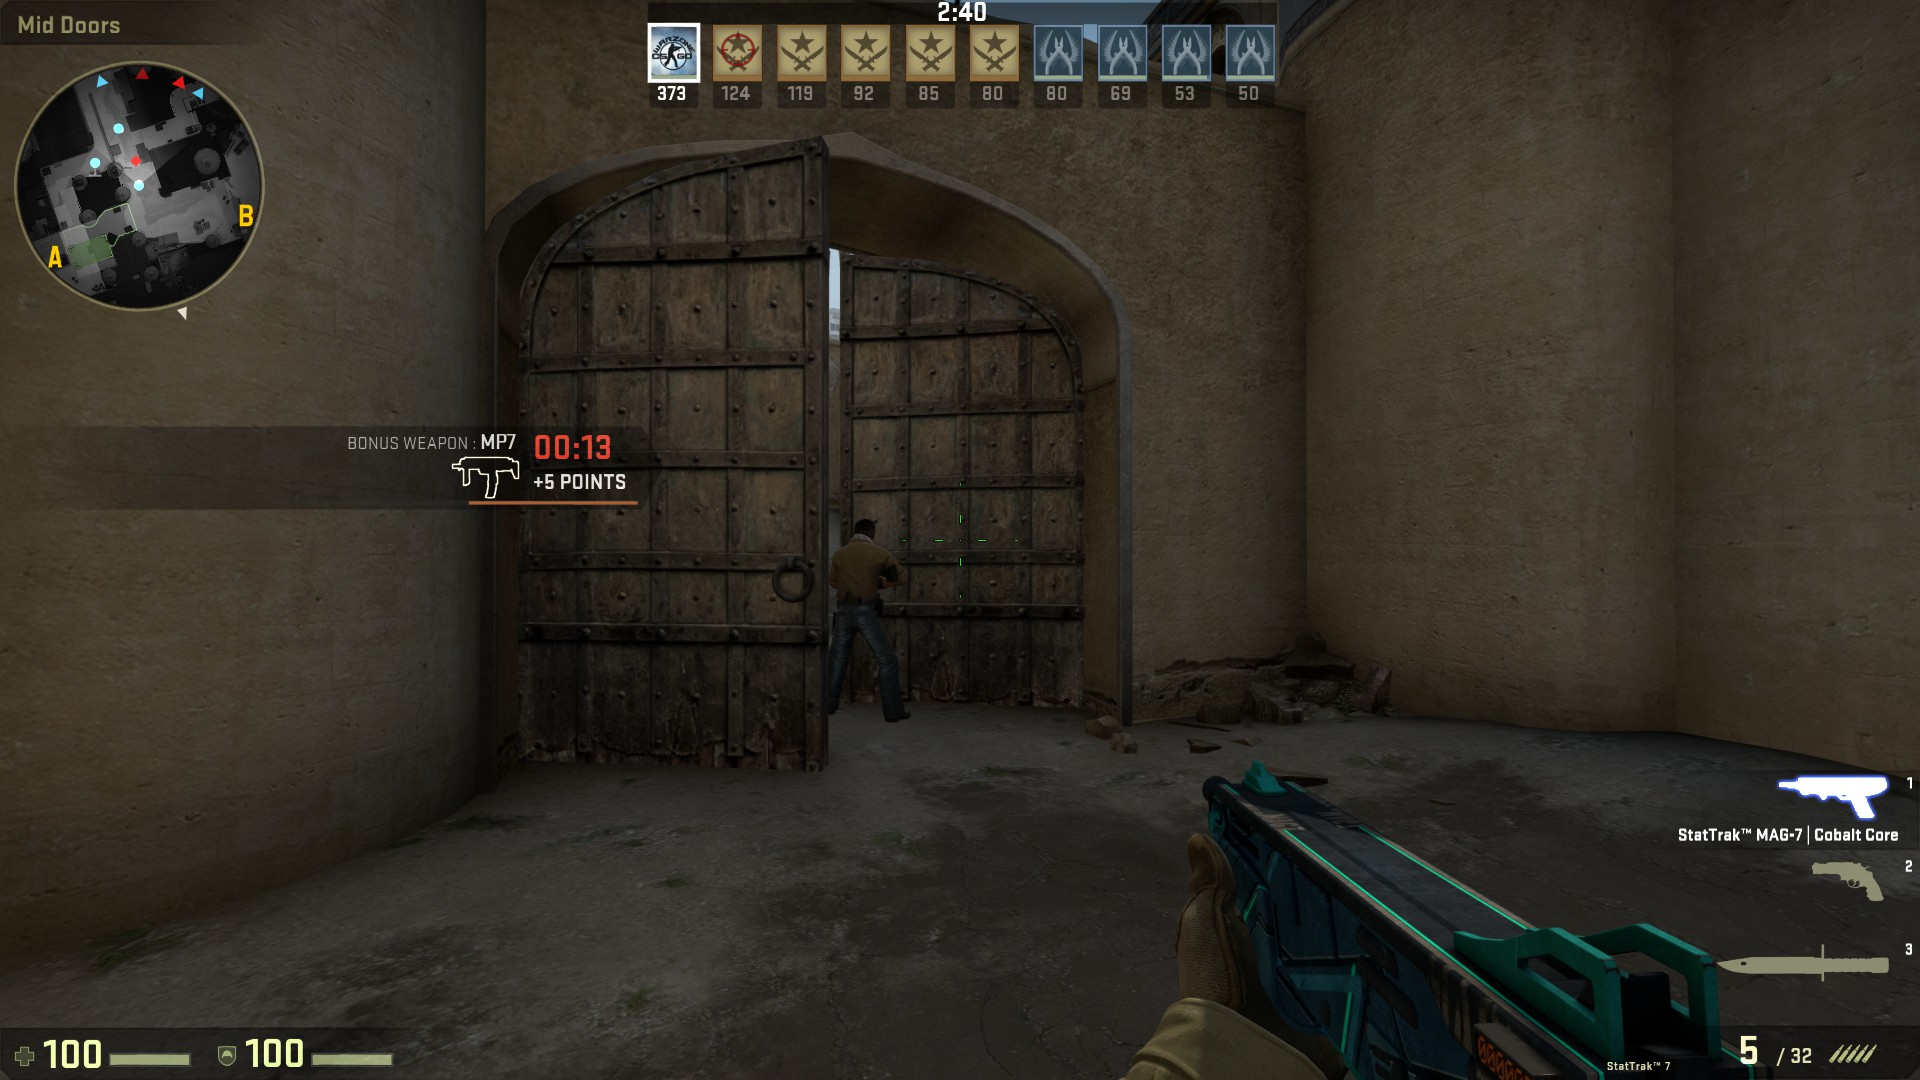t: (824, 517, 893, 721)
th: (852, 516, 876, 550)
